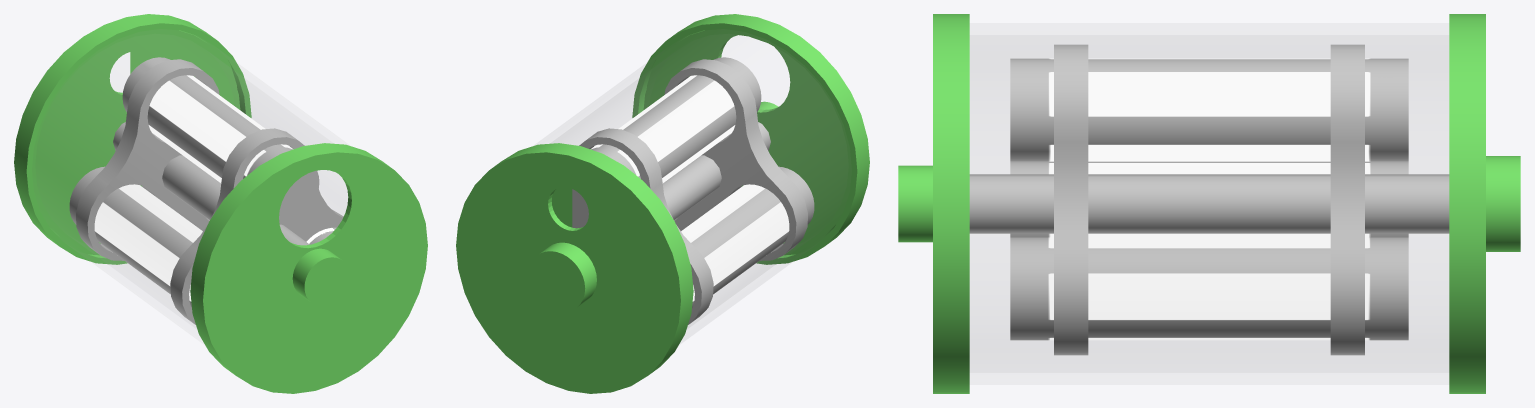
Rendered from Cartridge.fbx.
3 renders of one model, left to right at view 1: azimuth 30°, elevation 25°; view 2: azimuth 150°, elevation 25°; view 3: azimuth 270°, elevation 25°, orthographic. The views are drawn at different scales.
Visible parts, largest first — view 1: Cartridge.002; view 2: Cartridge.002; view 3: Cartridge.002.
Boxes of the visible parts, bbox=[...] form: Cartridge.002: bbox=[14, 14, 427, 393]; Cartridge.002: bbox=[456, 14, 869, 393]; Cartridge.002: bbox=[898, 14, 1520, 393].
Size of the model in its own units: 55 by 55 by 90.
